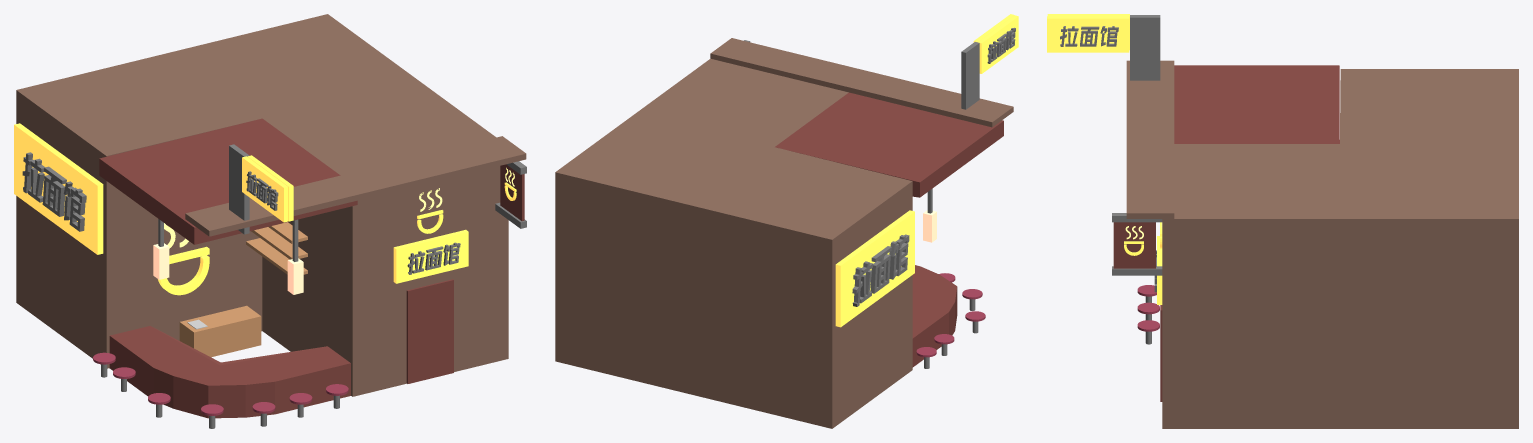
Rendered from ramen-shop.glb.
The picture shows the model from 3 angles, left to right: view 1: azimuth 30°, elevation 25°; view 2: azimuth 150°, elevation 25°; view 3: azimuth 270°, elevation 25°; orthographic projection. The views are drawn at different scales.
Parts seen in each view (by area): view 1: Cube.028, Cube.001, Cube, Cube.016, Text.007, Cube.014, Cube.005, Text, Text.005, Text.002, Cube.015, Cube.013 (+5 smaller); view 2: Cube.028, Cube.001, Cube.016, Text.007, Cube, Text.005, Cube.015; view 3: Cube.028, Cube.001, Cube.016, Text.006, Cube.015, Cube.013.
Boxes of the visible parts, bbox=[...] form: Cube.028: bbox=[16, 14, 508, 396]; Cube.001: bbox=[99, 118, 357, 244]; Cube: bbox=[109, 326, 350, 418]; Cube.016: bbox=[185, 136, 526, 236]; Text.007: bbox=[14, 123, 103, 254]; Cube.014: bbox=[406, 279, 453, 383]; Cube.005: bbox=[179, 305, 261, 357]; Text: bbox=[393, 229, 468, 283]; Text.005: bbox=[242, 156, 288, 222]; Text.002: bbox=[158, 223, 209, 295]; Cube.015: bbox=[229, 144, 249, 234]; Cube.013: bbox=[500, 164, 524, 221]; Cube.028: bbox=[555, 58, 912, 428]; Cube.001: bbox=[775, 92, 1003, 197]; Cube.016: bbox=[710, 38, 1013, 127]; Text.007: bbox=[835, 210, 914, 327]; Cube: bbox=[912, 265, 957, 367]; Text.005: bbox=[978, 15, 1018, 73]; Cube.015: bbox=[961, 42, 979, 109]; Cube.028: bbox=[1162, 69, 1518, 428]; Cube.001: bbox=[1174, 65, 1339, 143]; Cube.016: bbox=[1126, 60, 1174, 218]; Text.006: bbox=[1047, 16, 1129, 52]; Cube.015: bbox=[1130, 15, 1160, 80]; Cube.013: bbox=[1113, 222, 1155, 268].
Bounding box in the file's own units: 13.16 × 10.76 × 16.49.
